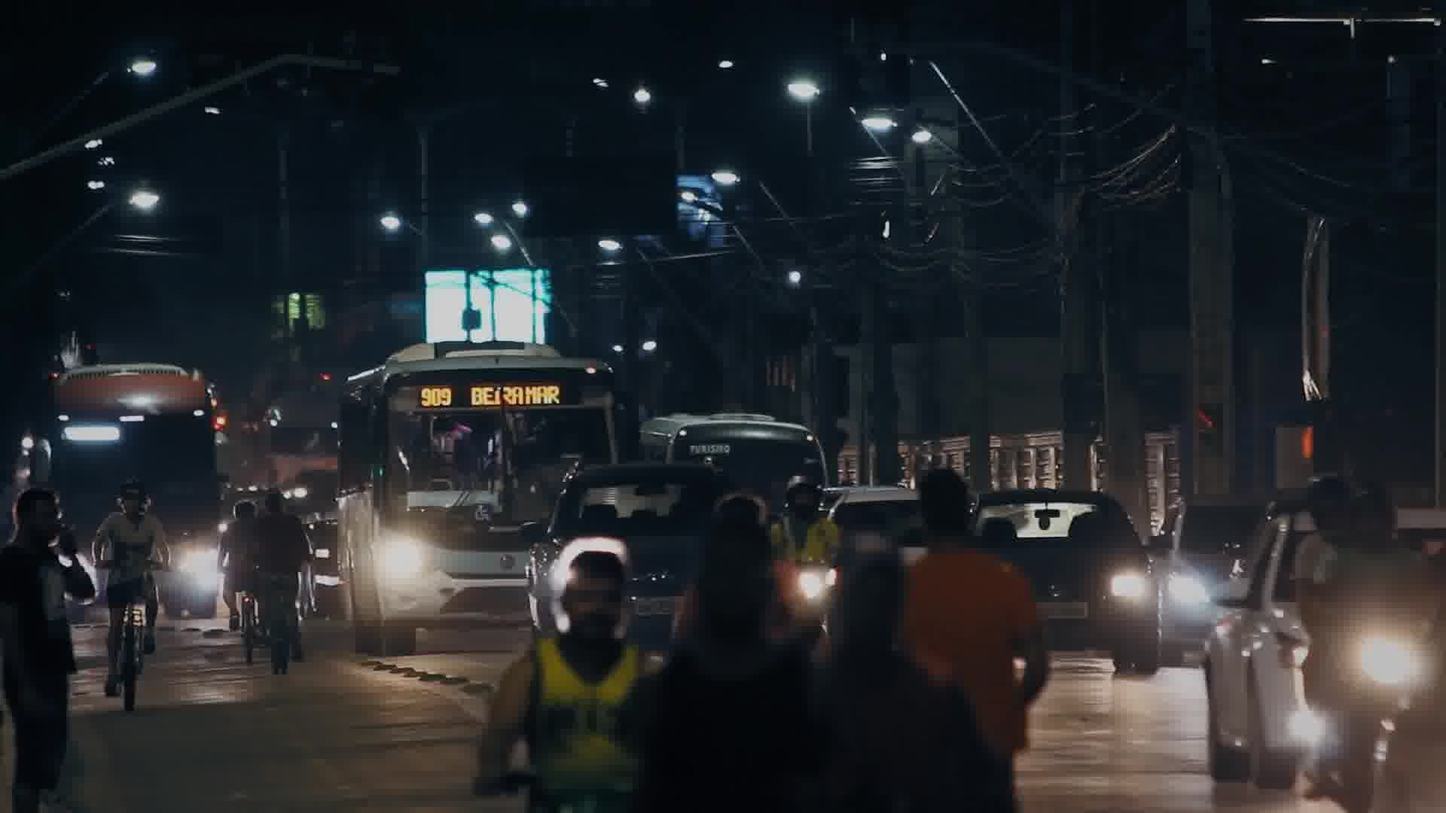bus: (328, 292, 611, 638)
car: (951, 490, 1231, 679), (854, 495, 1060, 728), (541, 447, 786, 615), (620, 463, 828, 660), (604, 432, 822, 565), (46, 347, 224, 475)
person: (863, 516, 1044, 811), (486, 542, 656, 810), (25, 458, 96, 731)
